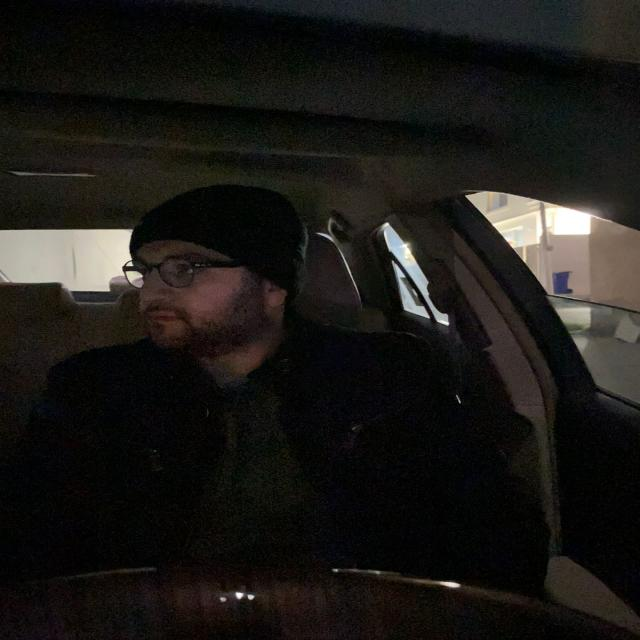LeftRight: (114, 183, 328, 362)
